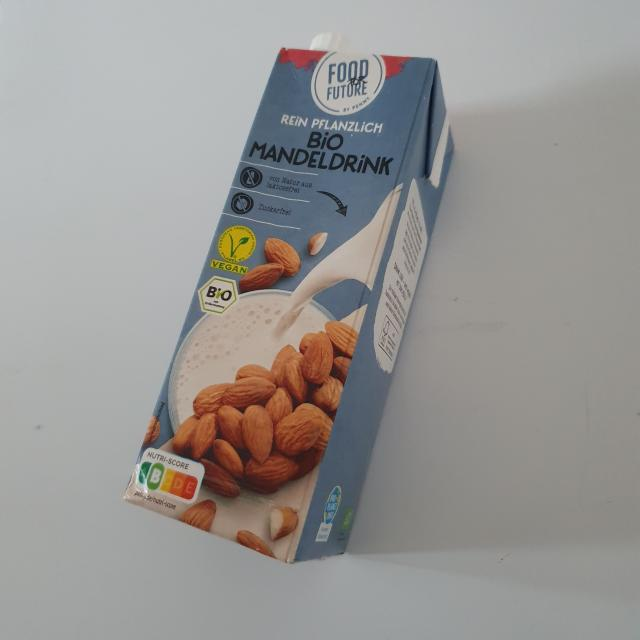PaperCardboard: (133, 36, 455, 580)
